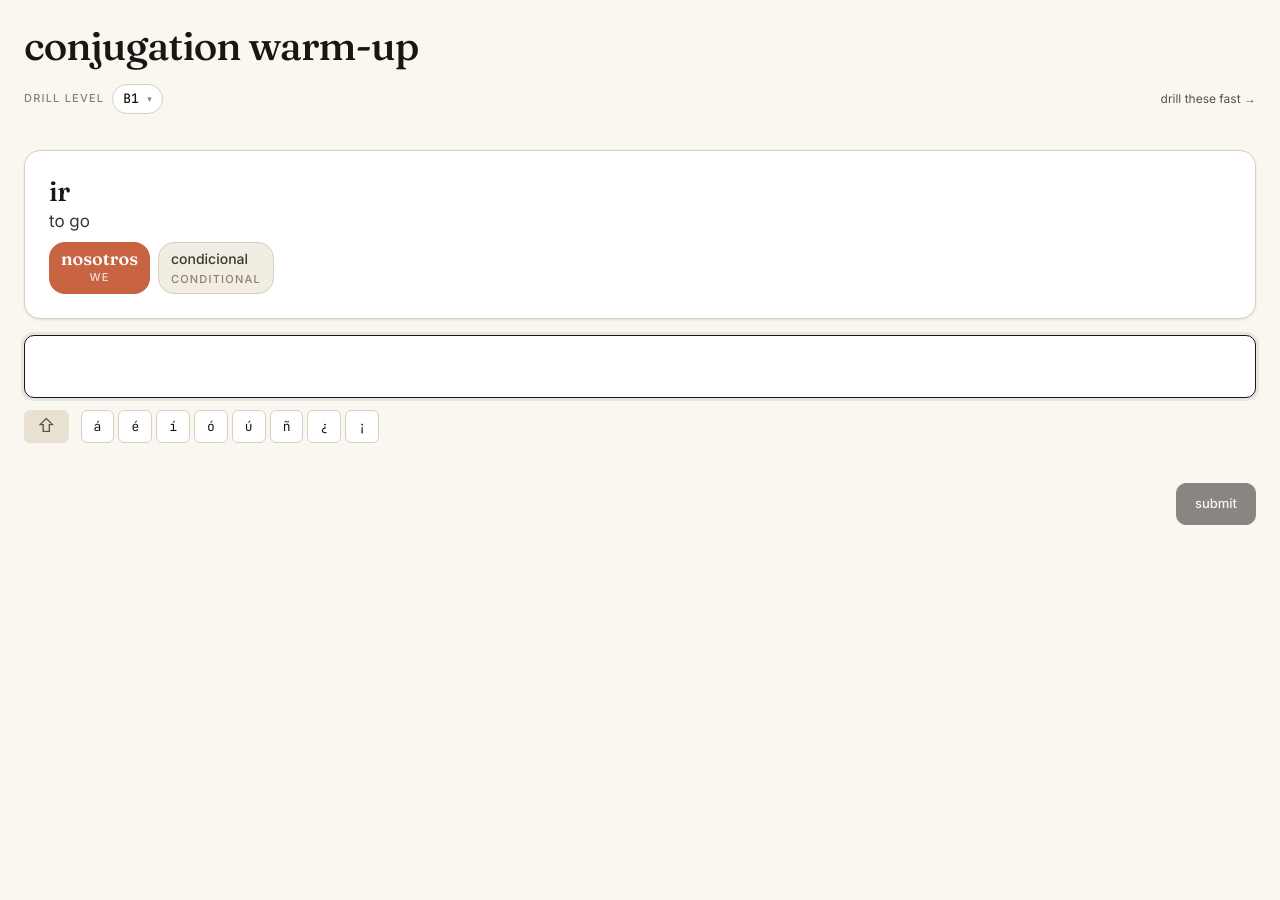
Scenario: ConjugationPage › steps to the next item in the set on "next" (no refetch)
The width and height of the screenshot is (1280, 900).
Type "iríamos" into the field at (640, 366), box [24, 334, 1256, 398]
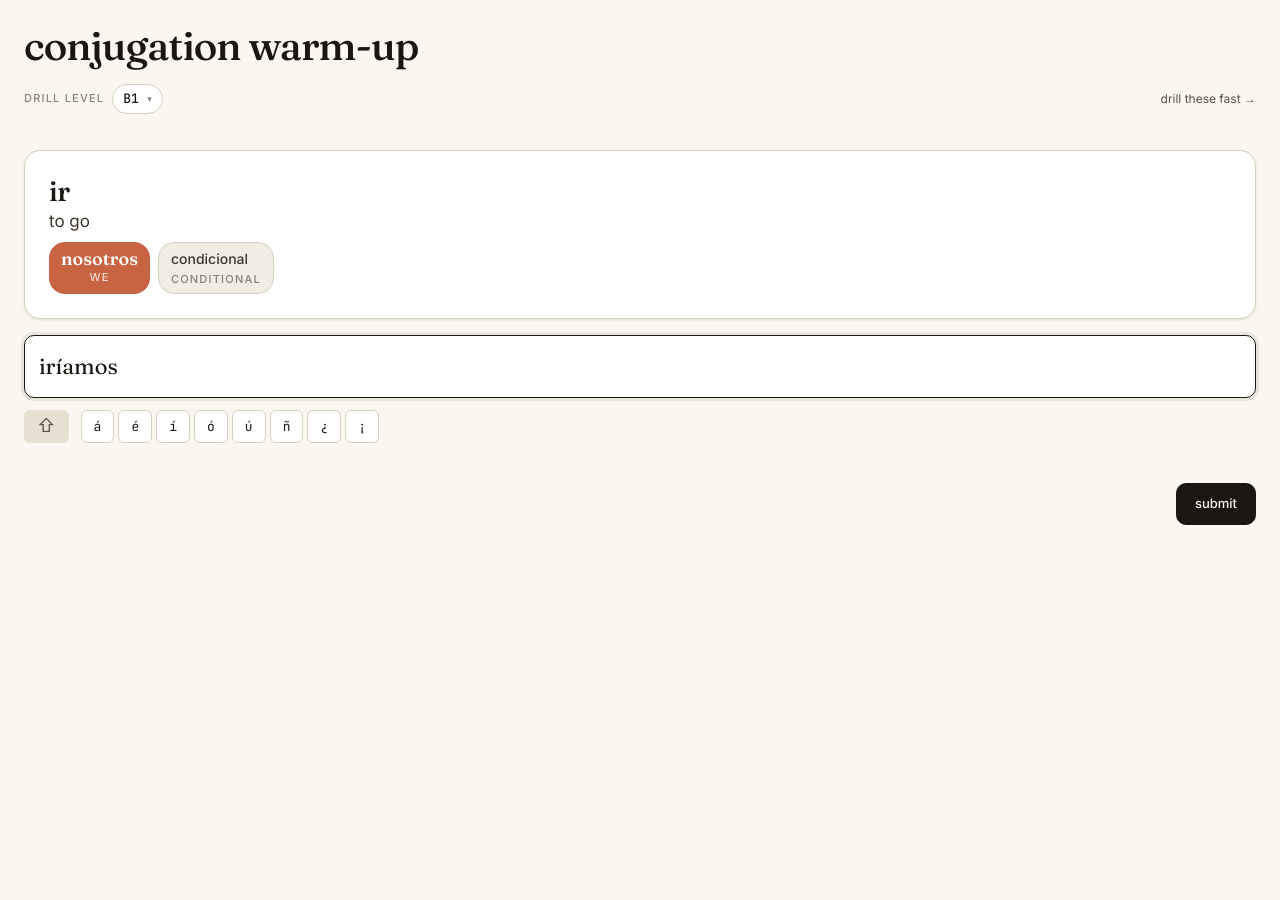
Click the button "submit" at (1216, 504), box [1176, 483, 1256, 524]
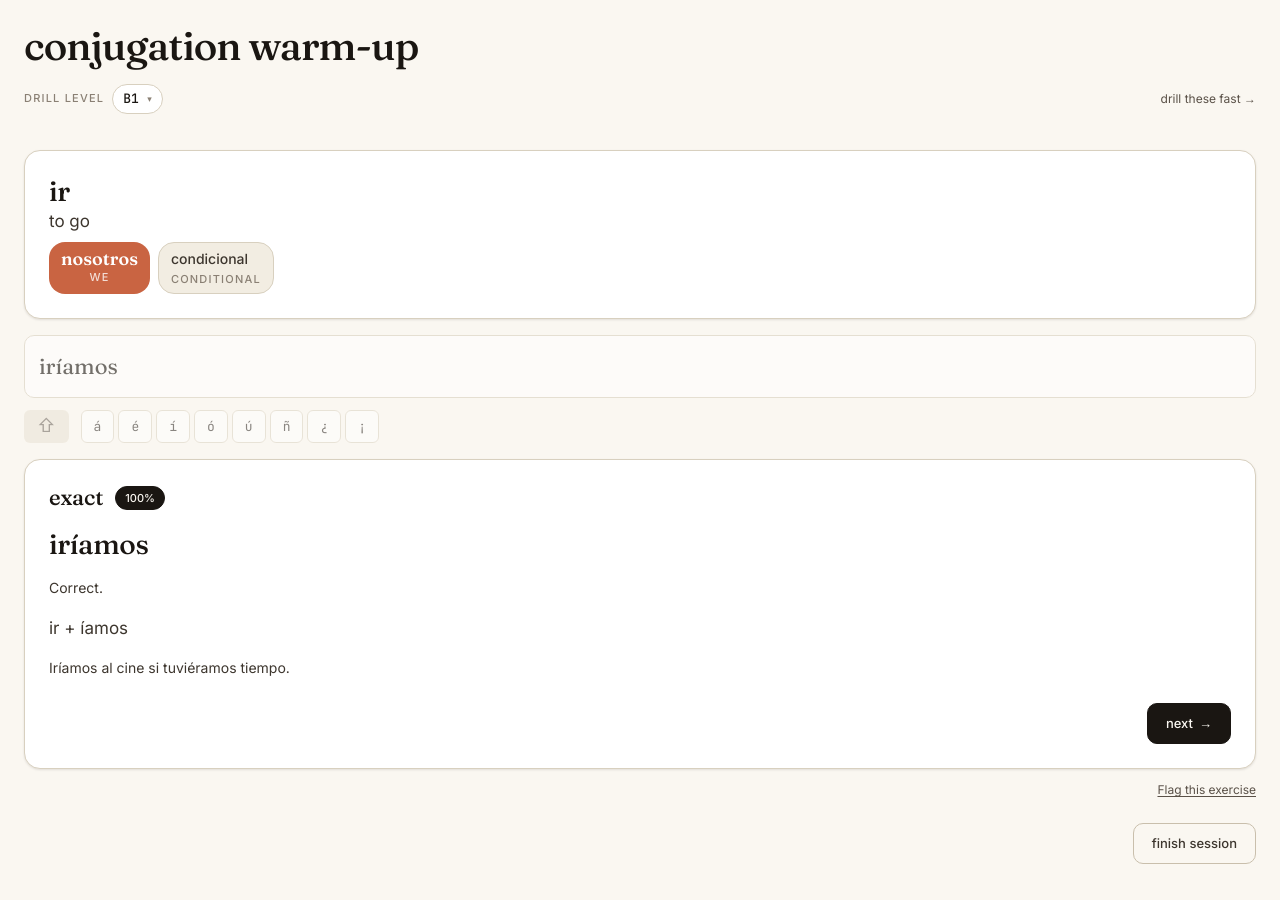
Expected: the text "ir + íamos" is shown, [49, 618, 128, 638]
Click the button "next →" at (1189, 724), box [1147, 703, 1231, 744]
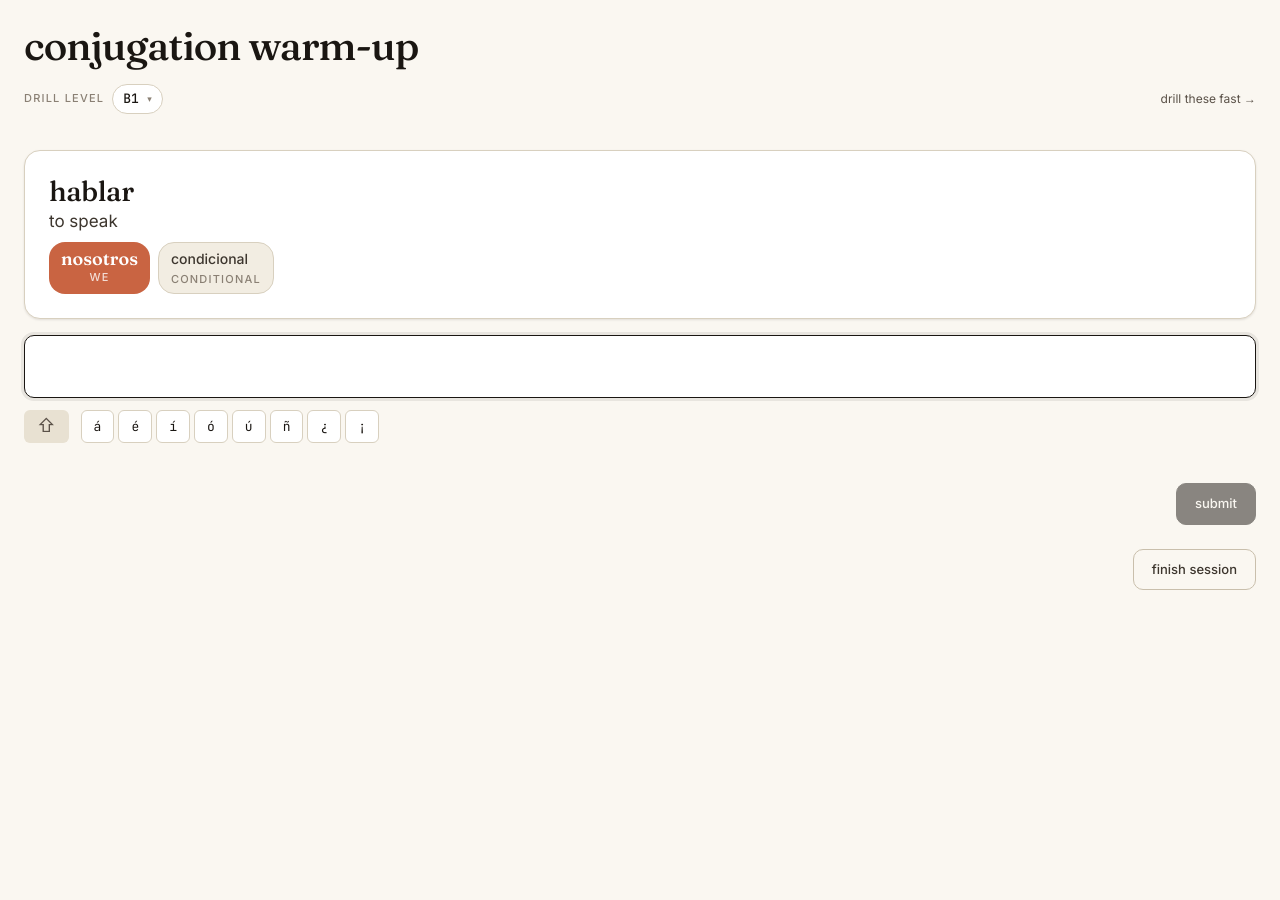
Expected: the text "hablar" is shown, [49, 174, 134, 208]
Expected: the text "ir + íamos" is gone
